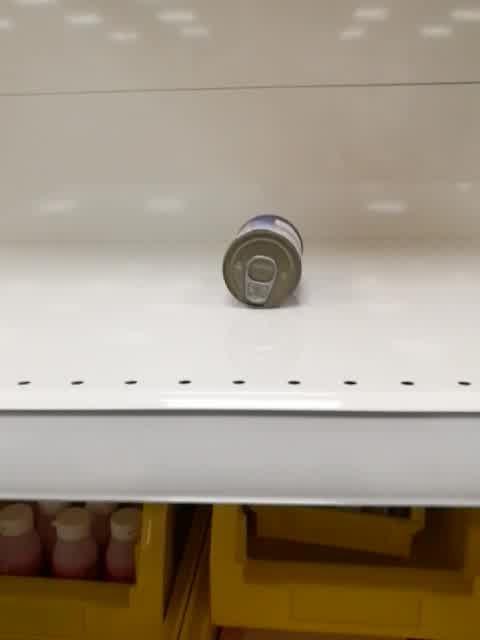sardine: (221, 213, 303, 308)
